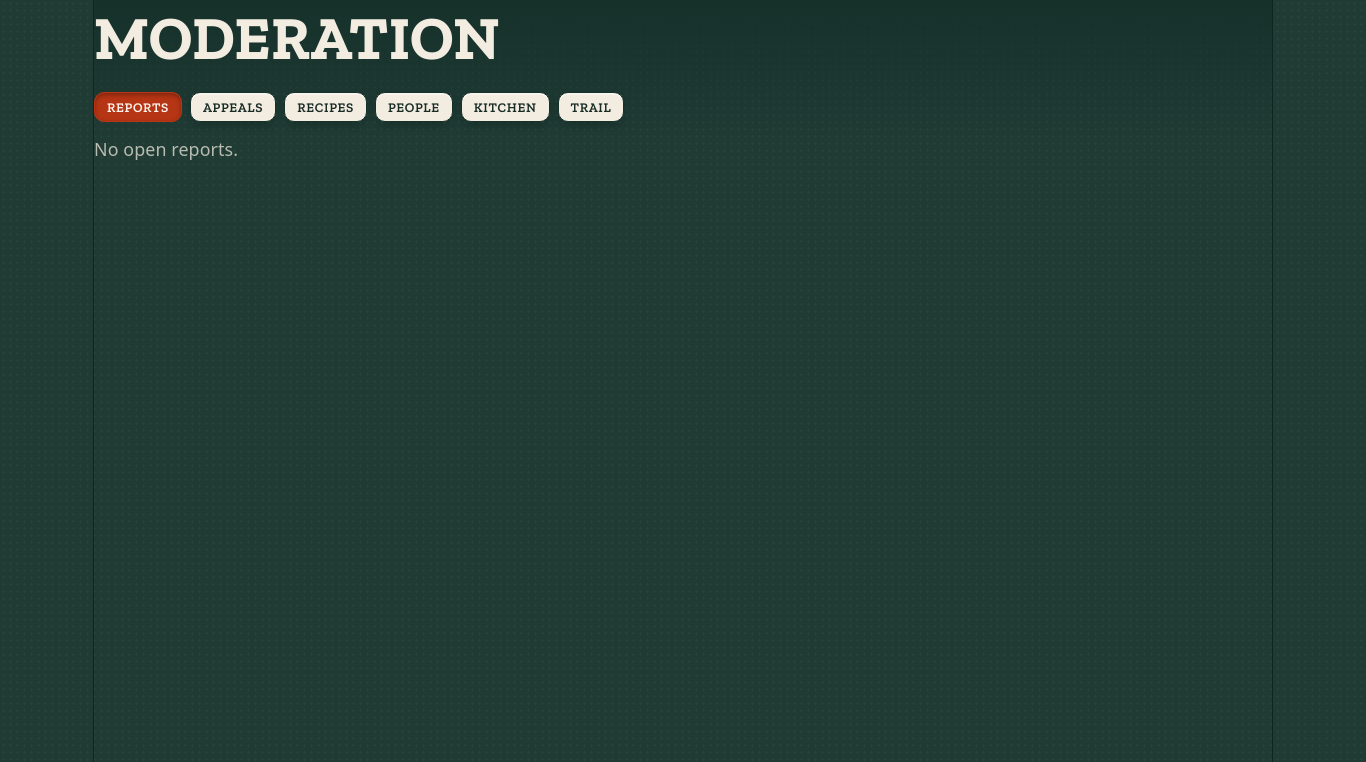
Scenario: it says nothing has been recorded when there is no history at all
This screenshot has width=1366, height=762.
Step 1. Click the button "Recipes" → (326, 107), box 284,92 -> 367,122
(page scrolled)
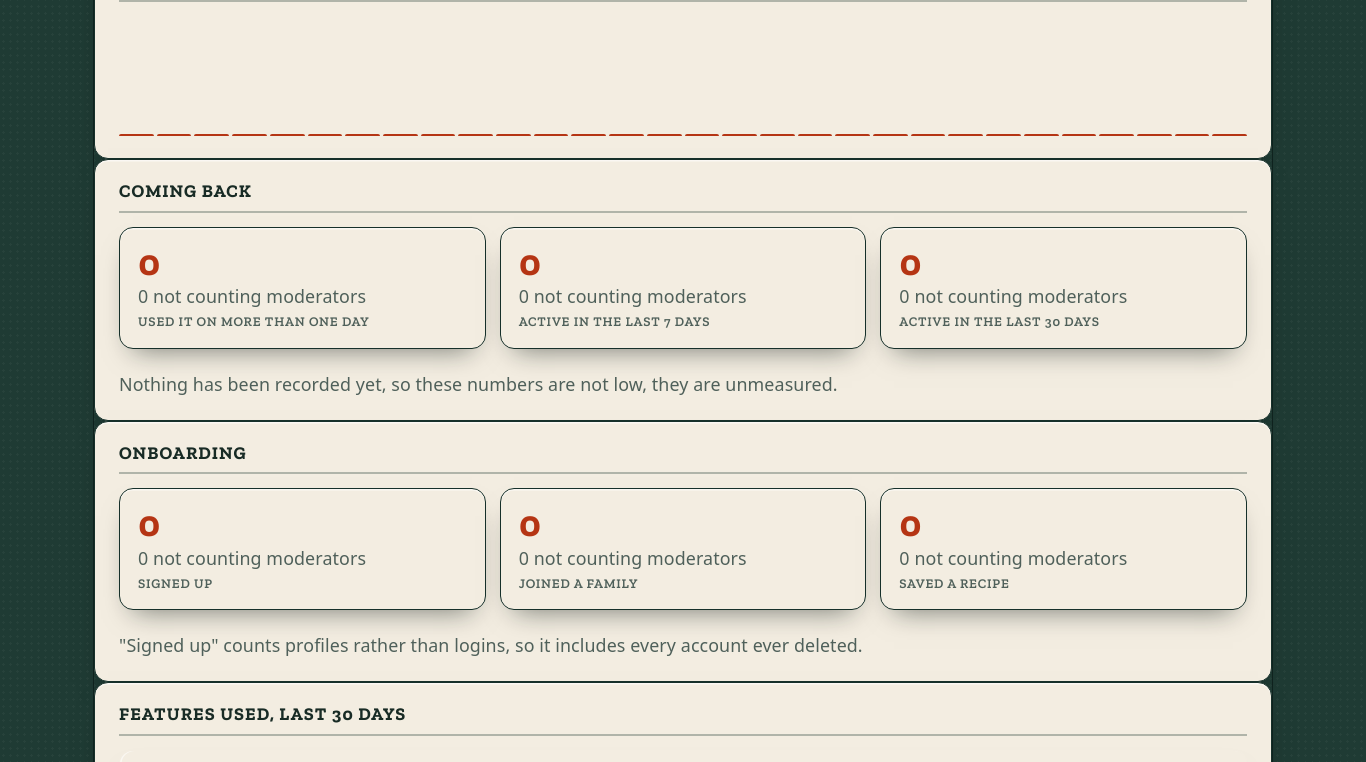
Check: the text "not low, they are unmeasured" is shown, box 119,372 -> 838,396
